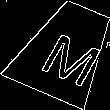M_NE: (29, 18, 102, 83)
